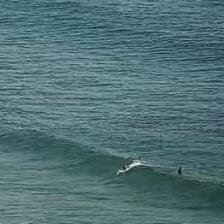surfer: (176, 166, 182, 175), (122, 165, 131, 170)
